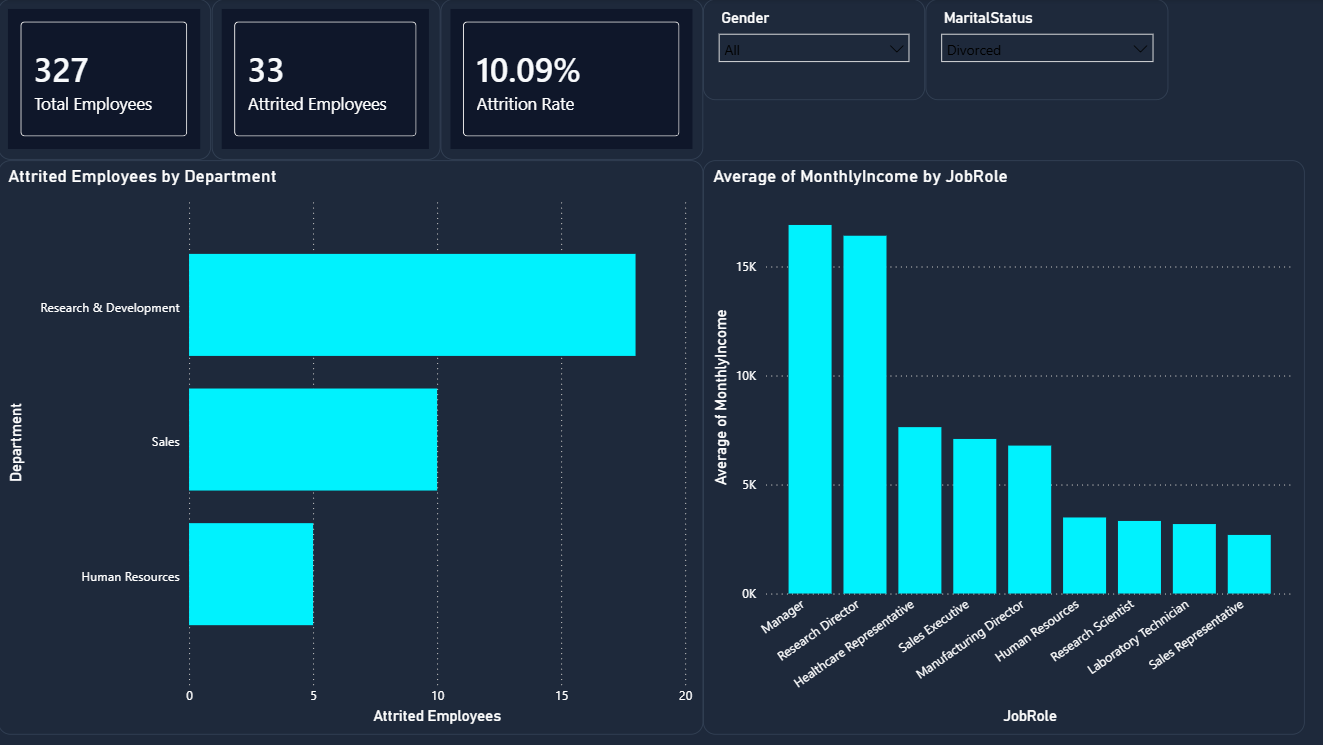

The page's visual inventory and layout, read from the dashboard file:
{"tool":"powerbi","page":{"name":"Page 1","canvas":[1280,720],"ordinal":0},"visuals":[{"type":"cardVisual","fields":{"Data":["Attrition.Total Employees"]},"box":[0,0,205.8,155.1],"z":0},{"type":"cardVisual","fields":{"Data":["Attrition.Attrited Employees"]},"box":[205.8,0,220.9,155.1],"z":1000},{"type":"cardVisual","fields":{"Data":["Attrition.Attrition Rate"]},"box":[426.8,0,253.9,155.1],"z":2000},{"type":"clusteredBarChart","fields":{"Category":["Attrition.Department"],"Y":["Attrition.Attrited Employees"]},"box":[0,155.1,680.6,554.4],"z":3000},{"type":"clusteredColumnChart","fields":{"Category":["Attrition.JobRole"],"Y":["Avg(Attrition.MonthlyIncome)"]},"box":[680.6,155.1,580.4,554.4],"z":4000},{"type":"slicer","fields":{"Values":["Attrition.Gender"]},"box":[680.6,0,214.1,97.4],"z":4001},{"type":"slicer","fields":{"Values":["Attrition.MaritalStatus"]},"box":[894.7,0,234.6,97.4],"z":4002}]}

Visuals, with their boxes in screenshot pixels (x1, y1, x2, y2), scaled from the page's 1280x720 canvas onto the 1323x745 screenshot:
cardVisual - Attrition.Total Employees: x1=0, y1=0, x2=213, y2=160
cardVisual - Attrition.Attrited Employees: x1=213, y1=0, x2=441, y2=160
cardVisual - Attrition.Attrition Rate: x1=441, y1=0, x2=704, y2=160
clusteredBarChart - Attrition.Department x Attrition.Attrited Employees: x1=0, y1=160, x2=703, y2=734
clusteredColumnChart - Attrition.JobRole x Avg(Attrition.MonthlyIncome): x1=703, y1=160, x2=1303, y2=734
slicer - Attrition.Gender: x1=703, y1=0, x2=925, y2=101
slicer - Attrition.MaritalStatus: x1=925, y1=0, x2=1167, y2=101
